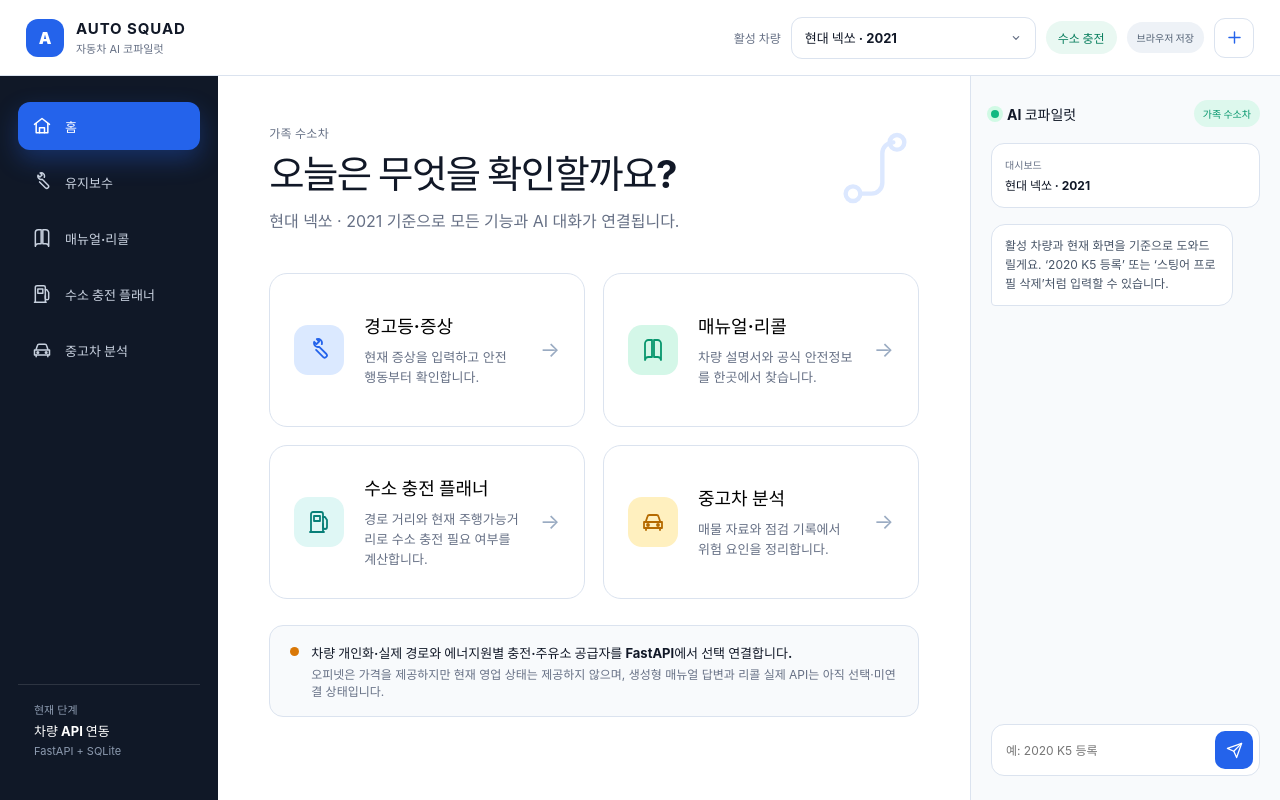
it: vehicle-aware planner › deletes a named profile only after chat confirmation
Step 1. Type "주말 차량 프로필 삭제" into the field named "AI 코파일럿에게 메시지 보내기" → (1102, 750), box x1=998 y1=731 x2=1207 y2=769
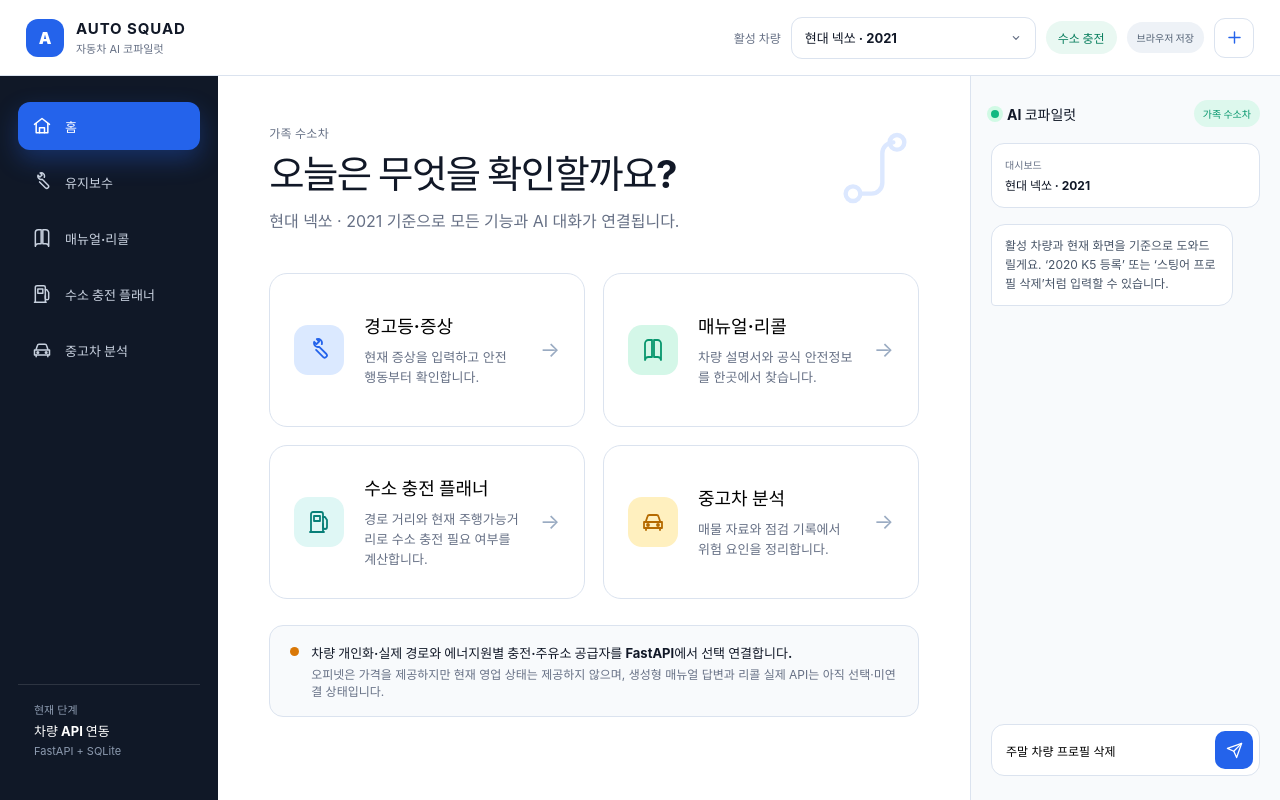
Step 2. Click the button named "메시지 전송" → (1234, 750), box x1=1215 y1=731 x2=1253 y2=769
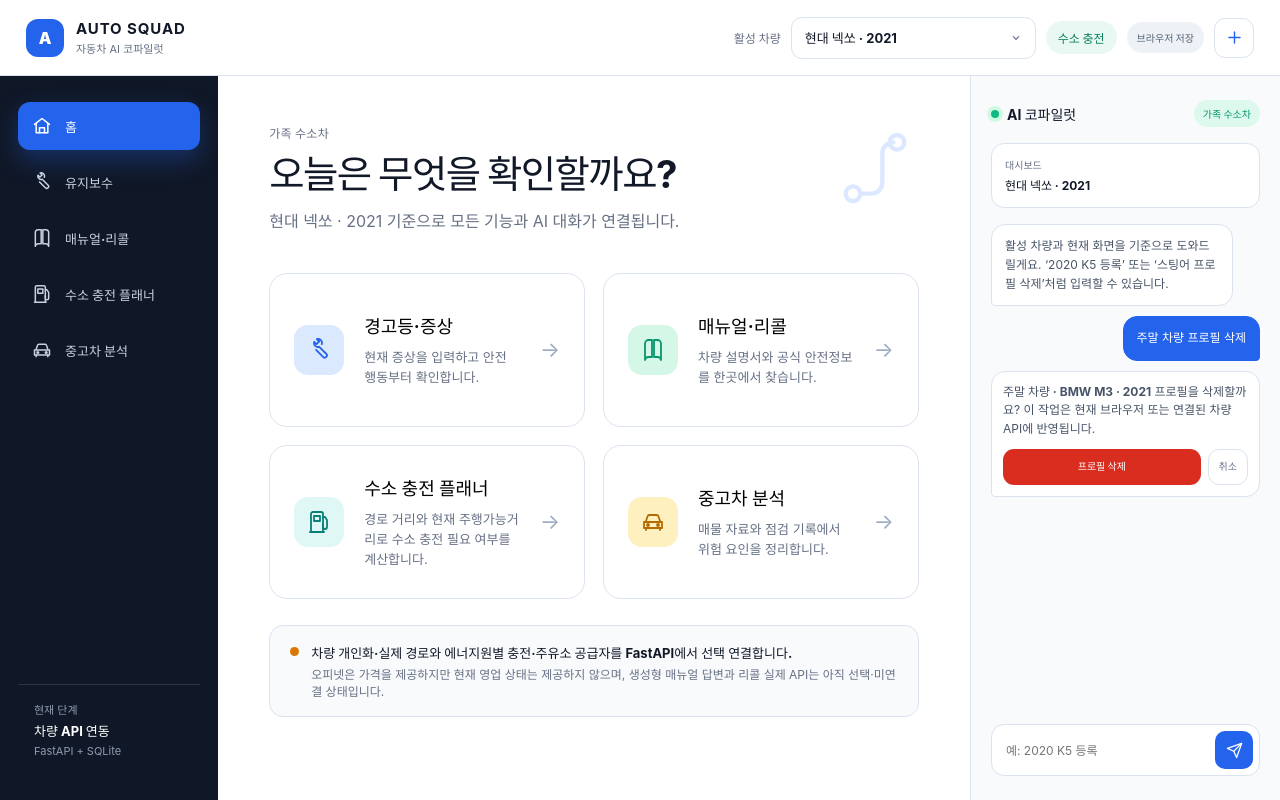
Now the text "주말 차량 · BMW M3 · 2021" is shown, box x1=1003 y1=384 x2=1151 y2=399
Step 3. Click the button "프로필 삭제" → (1102, 466), box x1=1003 y1=448 x2=1201 y2=484
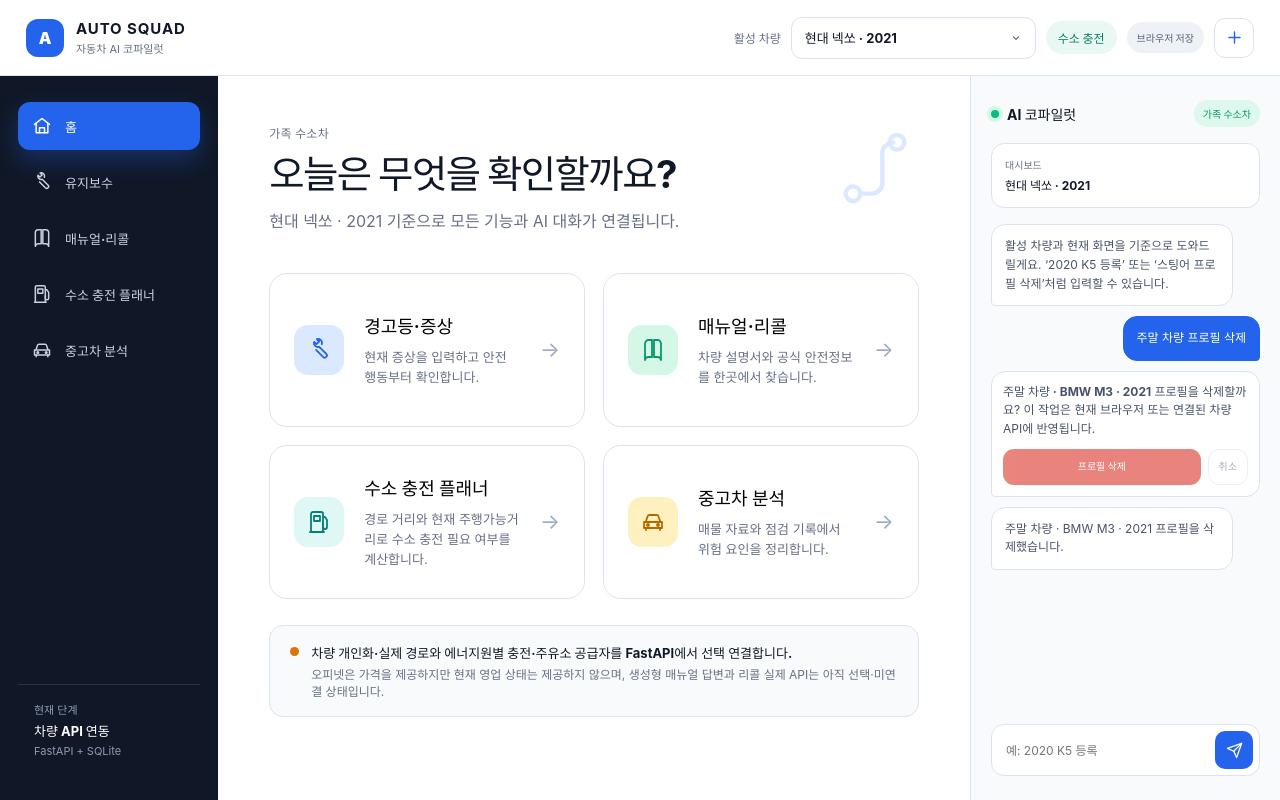
Now the text "주말 차량 · BMW M3 · 2021 프로필을 삭제했습니다." is shown, box x1=991 y1=506 x2=1233 y2=570
